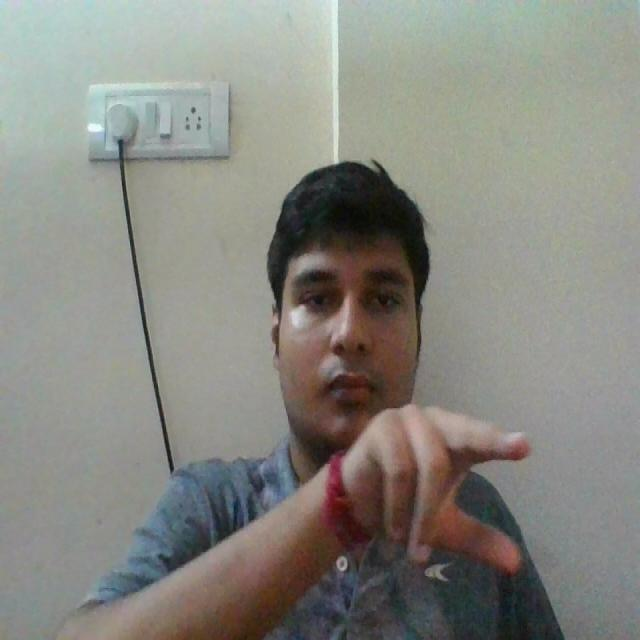no: (310, 405, 559, 612)
